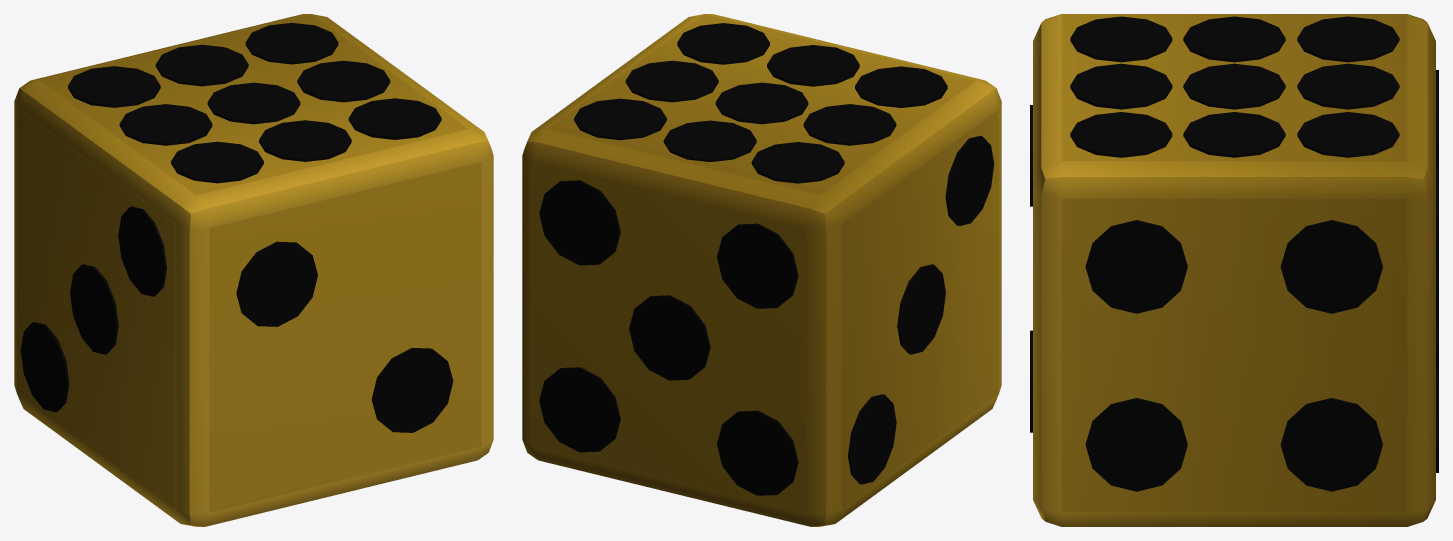
The model's file is Dice_02.fbx.
3 renders of one model, left to right at view 1: azimuth 30°, elevation 25°; view 2: azimuth 150°, elevation 25°; view 3: azimuth 270°, elevation 25°, orthographic. The views are drawn at different scales.
Parts seen in each view (by area): view 1: pCube17; view 2: pCube17; view 3: pCube17.
Boxes of the visible parts, x1,y1,x2,y2 form: pCube17: [14, 14, 493, 526]; pCube17: [522, 14, 1001, 526]; pCube17: [1030, 14, 1438, 526].
Bounding box in the file's own units: 2.03 × 2.03 × 2.03.
